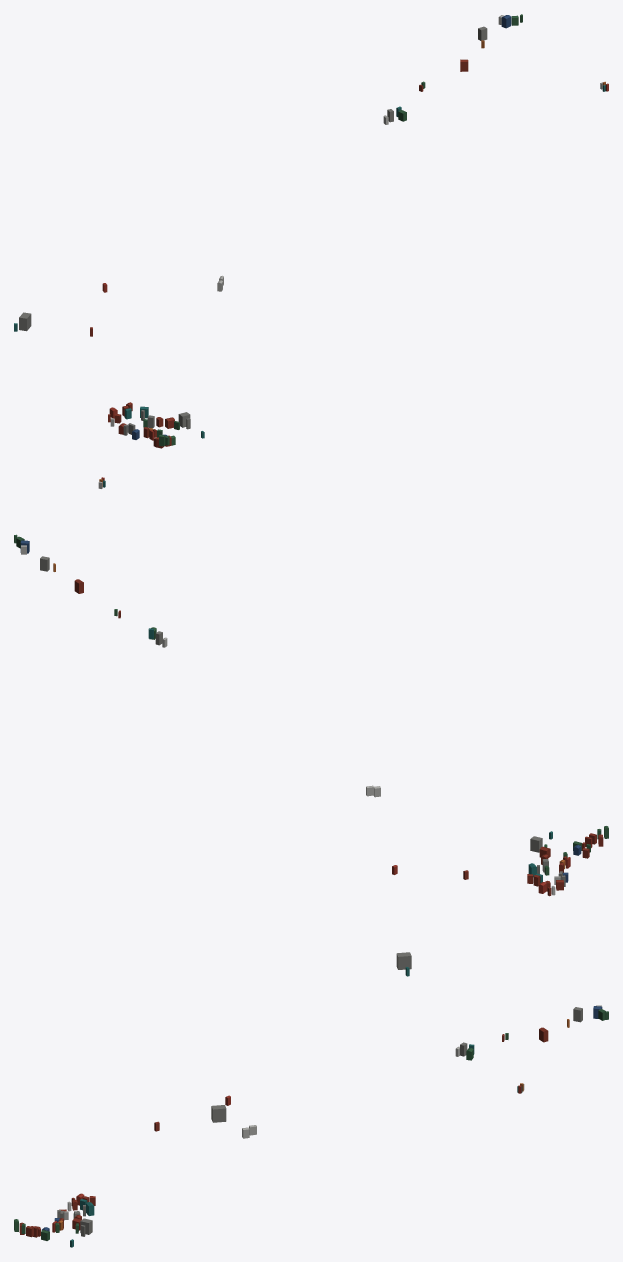
Rendered from near-15-27355-14867.e60e08e4.glb.
3 renders of one model, top to bottom at view 1: azimuth 30°, elevation 25°; view 2: azimuth 150°, elevation 25°; view 3: azimuth 330°, elevation 25°, orthographic. The views are drawn at different scales.
Bounding box in the file's own units: 1179 × 643 × 747.
